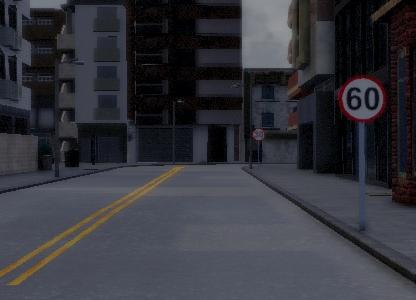Speed_60: (336, 69, 389, 125)
